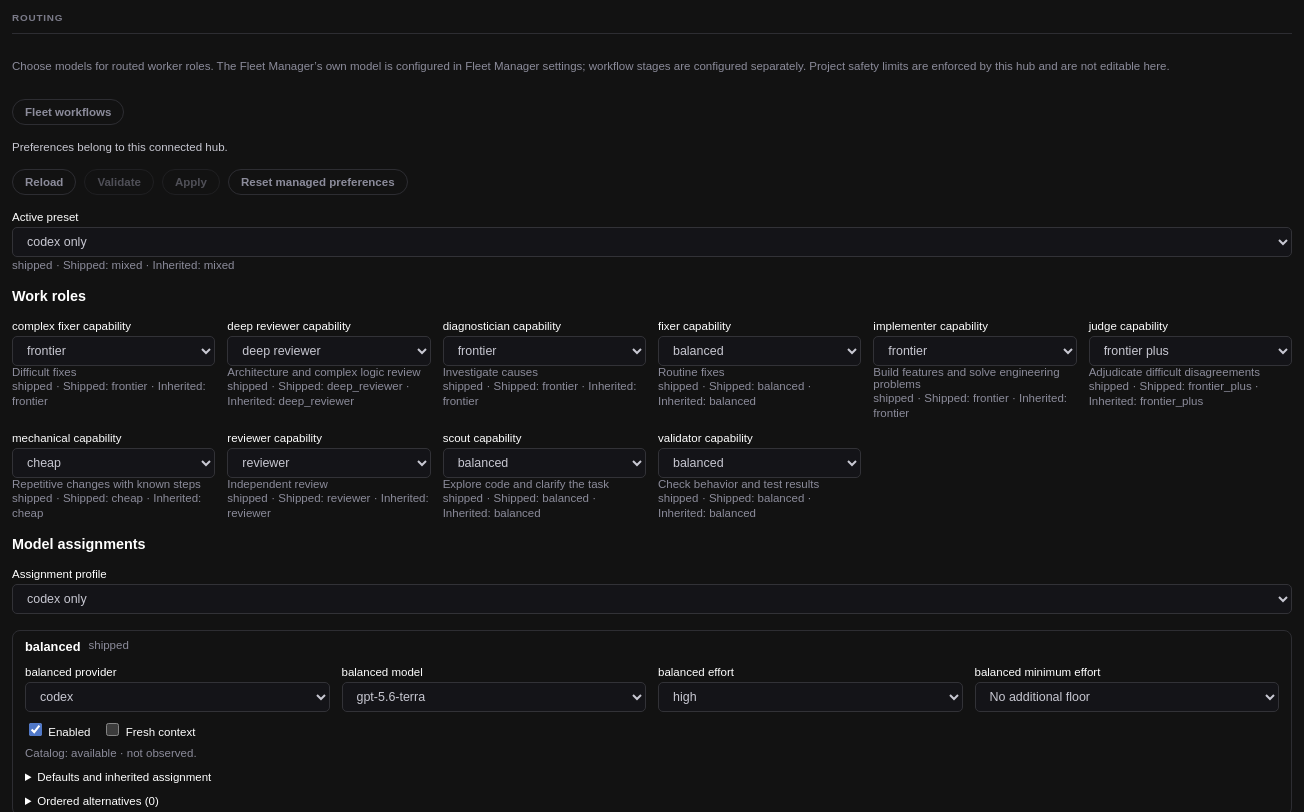
Test: Routing settings › keeps unknown catalog edits pending, and reset reveals inherited values
Select "cheap" in the dropdown labelled "scout capability": (544, 463) [443,448,646,478]
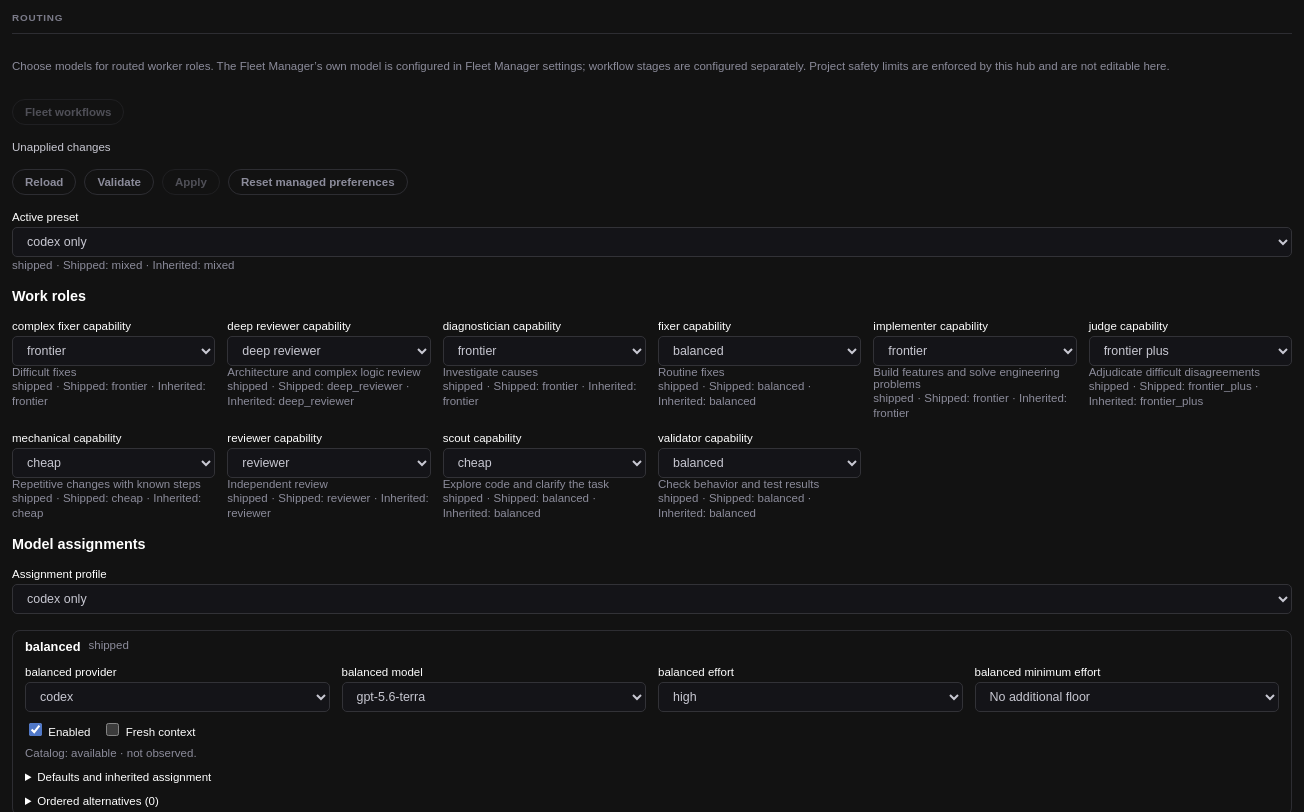
Click the button "Validate": click(119, 182) [84,169,154,195]
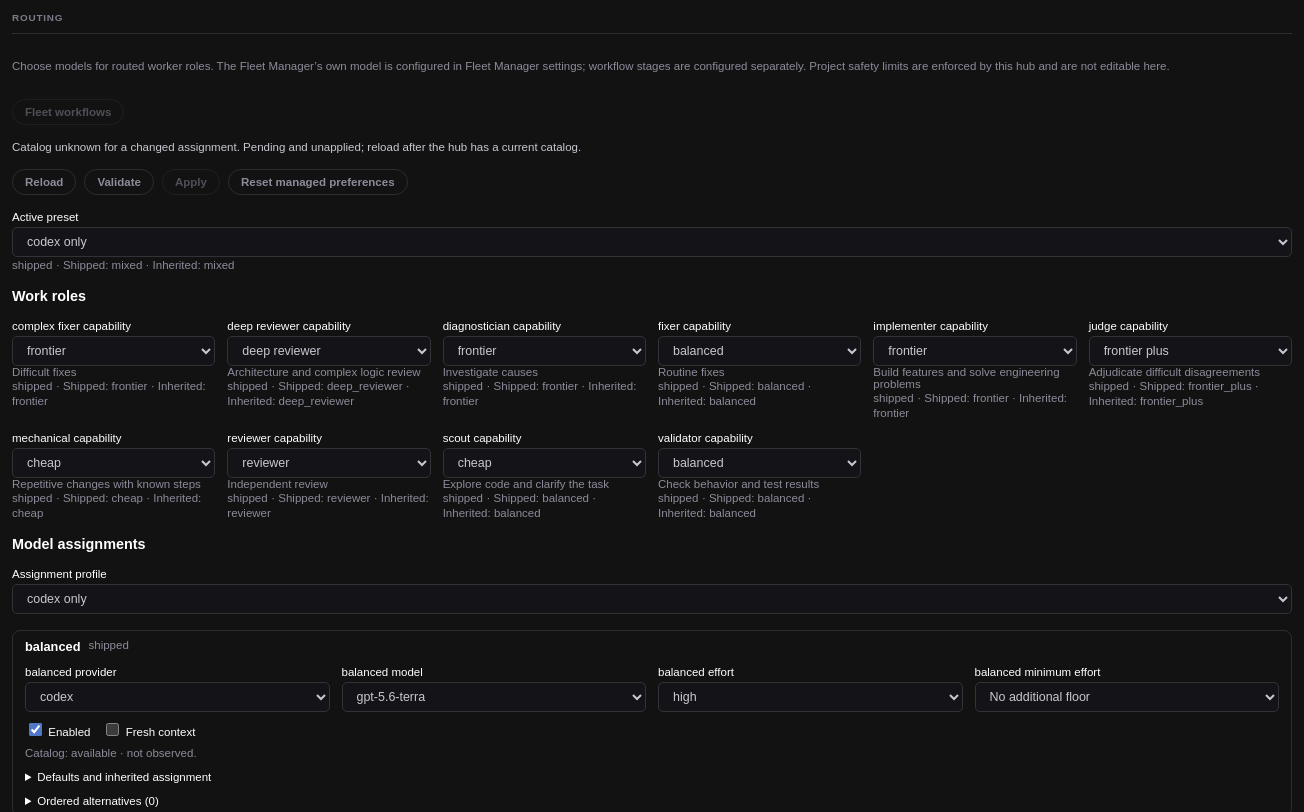
Expected: the button "Apply" is disabled, [162,169,220,195]
Now the text "Catalog unknown for a changed assignment" is shown, box [12,141,581,153]
Click the button "Reset managed preferences": click(318, 182) [228,169,408,195]
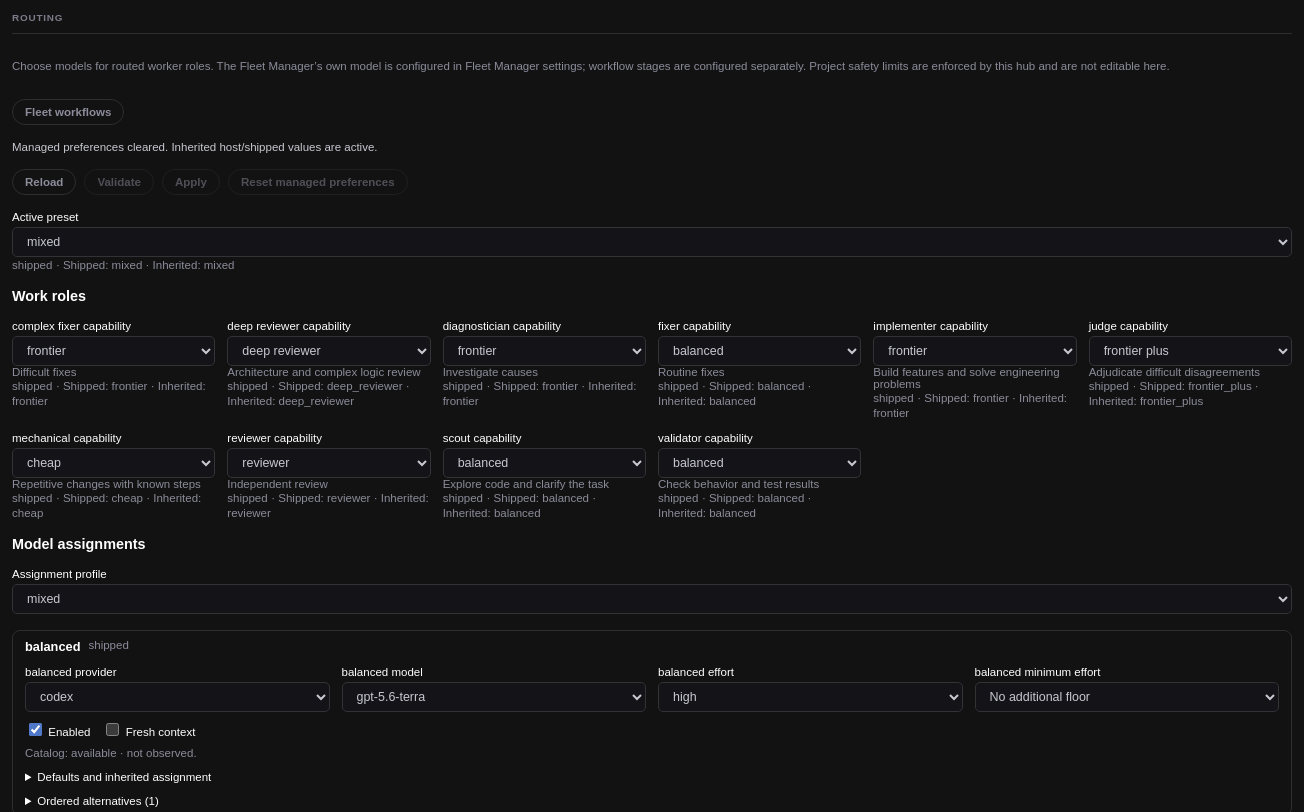
Now the text "Managed preferences cleared. Inherited host/shipped values are active." is shown, box [12,141,378,153]
Now the dropdown labelled "Active preset" shows "mixed", box [12,227,1292,257]
